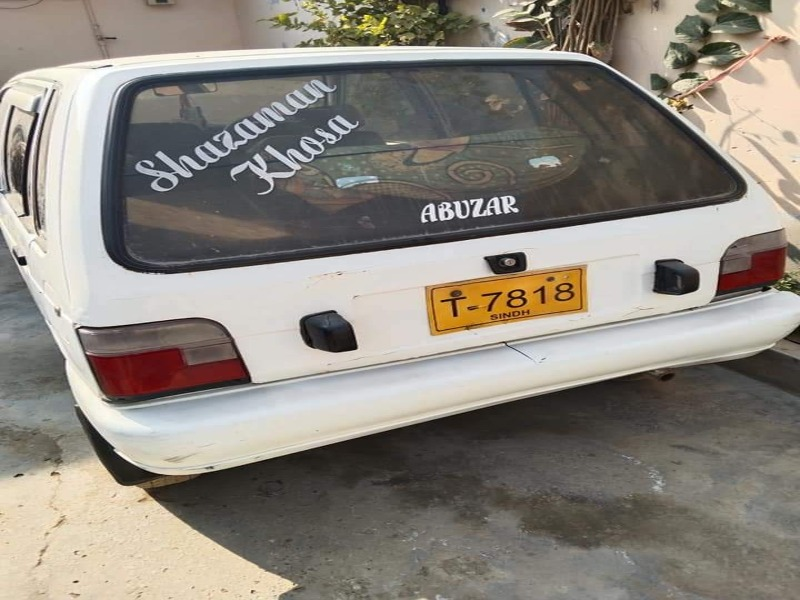License Plate: (425, 266, 588, 328)
